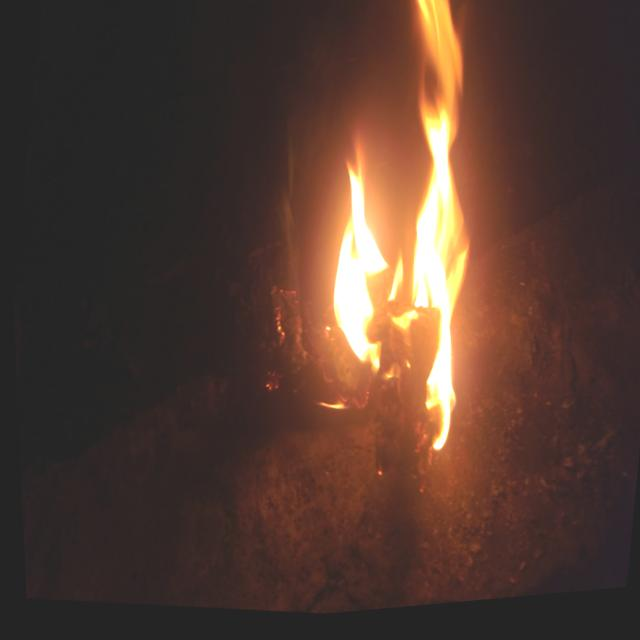helmet: (293, 0, 511, 476)
